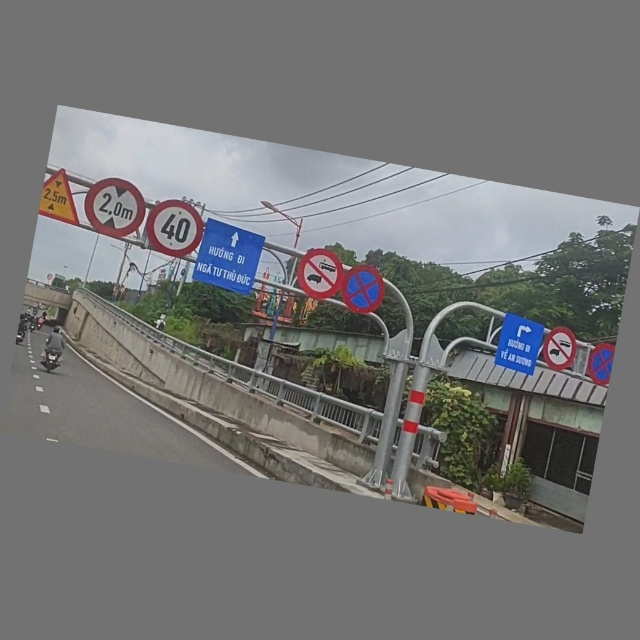P.107: (293, 245, 349, 303), (540, 324, 581, 376)
P.117*: (80, 175, 151, 244)
P.127*40: (143, 195, 207, 263)
P.130: (339, 259, 389, 319), (585, 341, 616, 389)
W.239b*: (38, 166, 88, 228)
